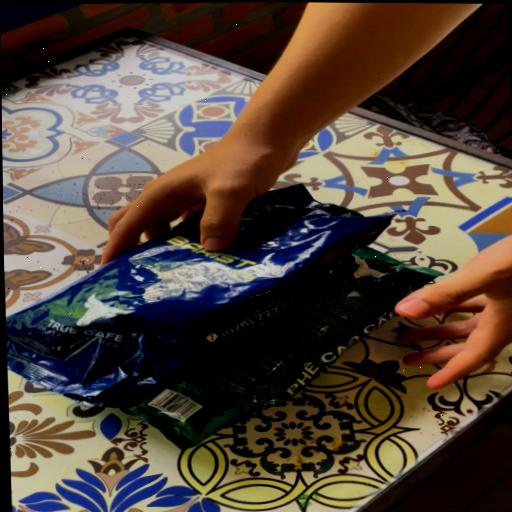cafe_hat: (6, 185, 394, 407)
cafe_xay: (132, 247, 440, 449)
